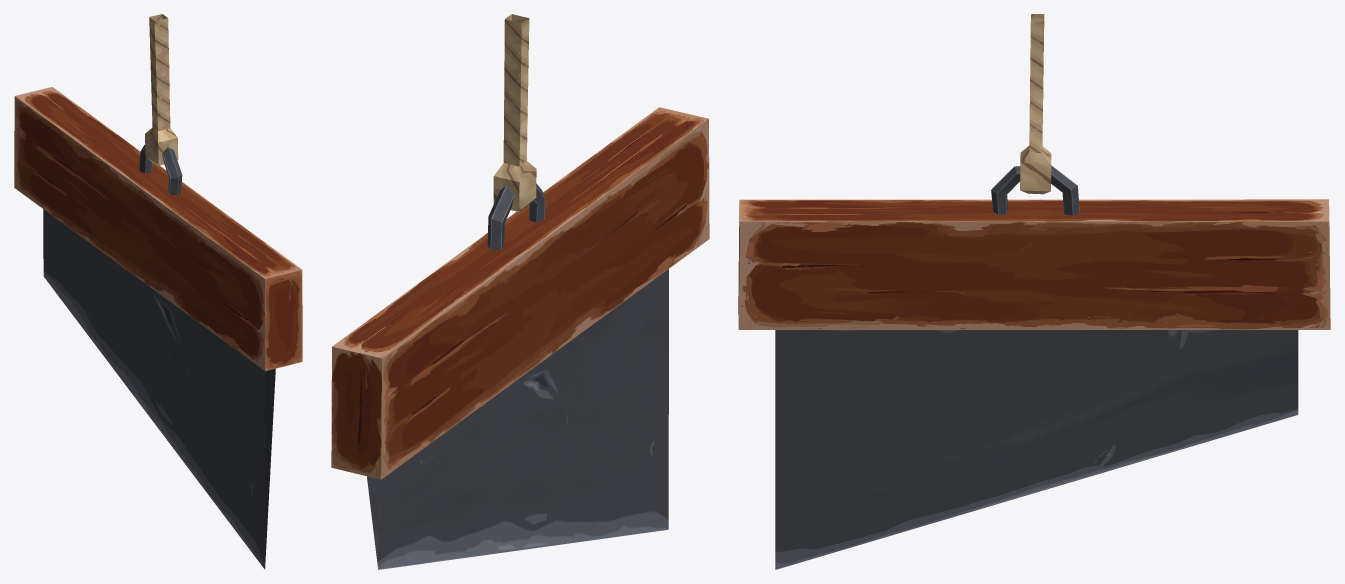
File: SM_PROP_guillotine_blade.fbx
The picture shows the model from 3 angles, left to right: view 1: azimuth 30°, elevation 25°; view 2: azimuth 150°, elevation 25°; view 3: azimuth 270°, elevation 25°; orthographic projection. The views are drawn at different scales.
Visible parts, largest first — view 1: SM_PROP_guillotine_blade; view 2: SM_PROP_guillotine_blade; view 3: SM_PROP_guillotine_blade.
Part boxes in pixels (<box>): SM_PROP_guillotine_blade: <box>14,14,302,569</box>; SM_PROP_guillotine_blade: <box>331,14,709,569</box>; SM_PROP_guillotine_blade: <box>738,14,1330,569</box>.
Size of what is drawn, in the model's own units: 16.24 by 191 by 185.
